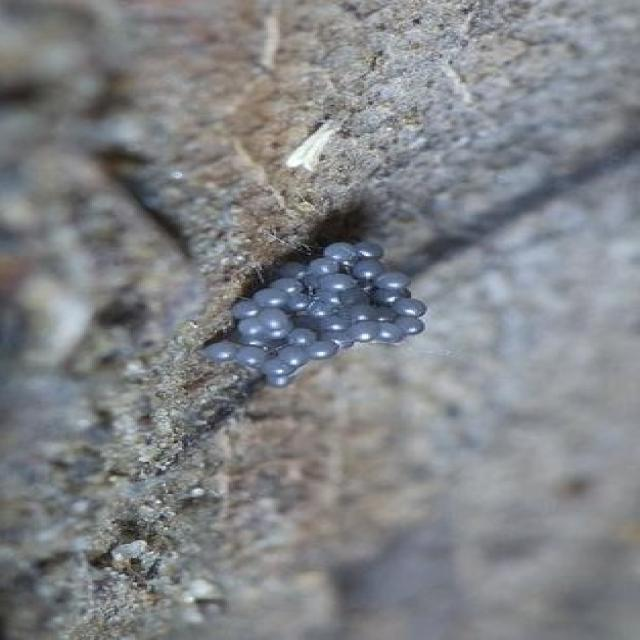army worm: (199, 237, 430, 397)
